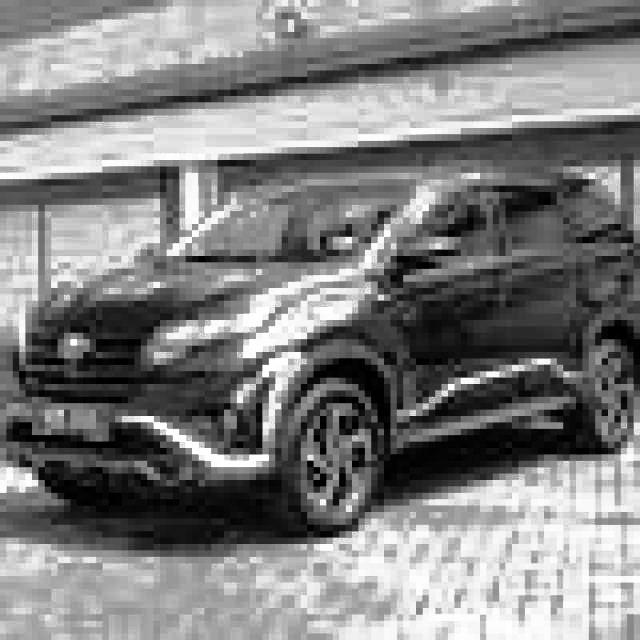Car: (0, 175, 640, 629)
